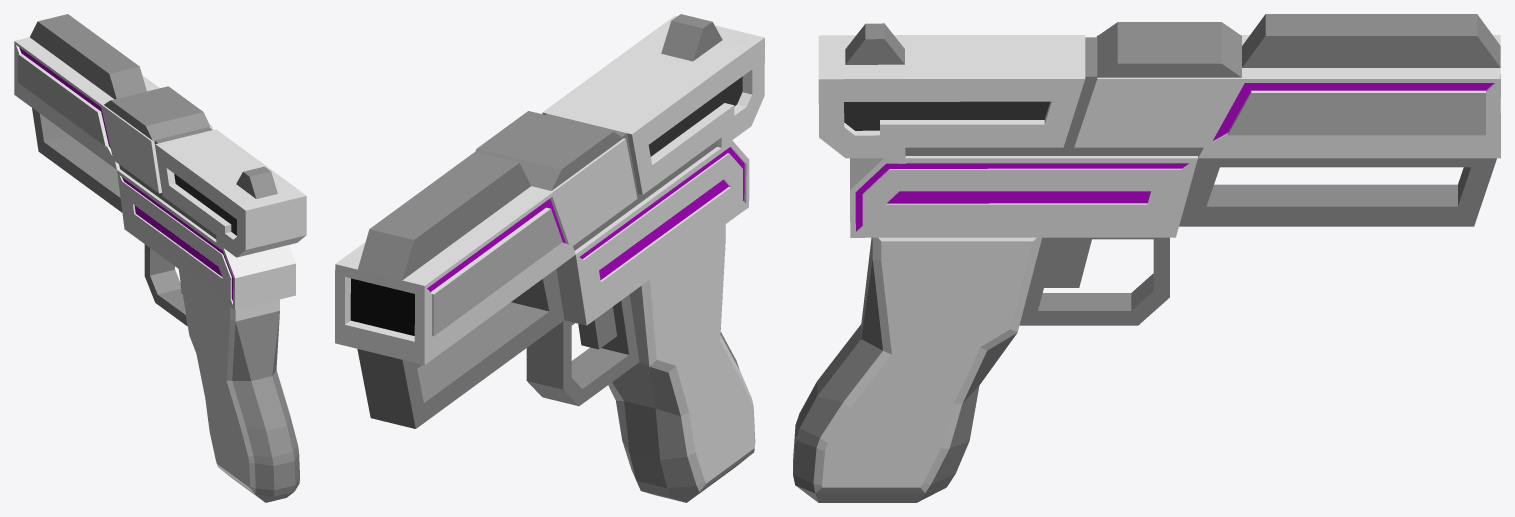
The model's file is RayPistol.fbx.
The picture shows the model from 3 angles, left to right: view 1: azimuth 30°, elevation 25°; view 2: azimuth 150°, elevation 25°; view 3: azimuth 270°, elevation 25°; orthographic projection. The views are drawn at different scales.
Parts seen in each view (by area): view 1: Cube; view 2: Cube; view 3: Cube.
Part boxes in pixels (bbox=[...]): Cube: bbox=[14, 14, 306, 502]; Cube: bbox=[335, 14, 764, 502]; Cube: bbox=[793, 14, 1500, 502].
Size of the model in its own units: 6.84 by 32.82 by 44.75.
